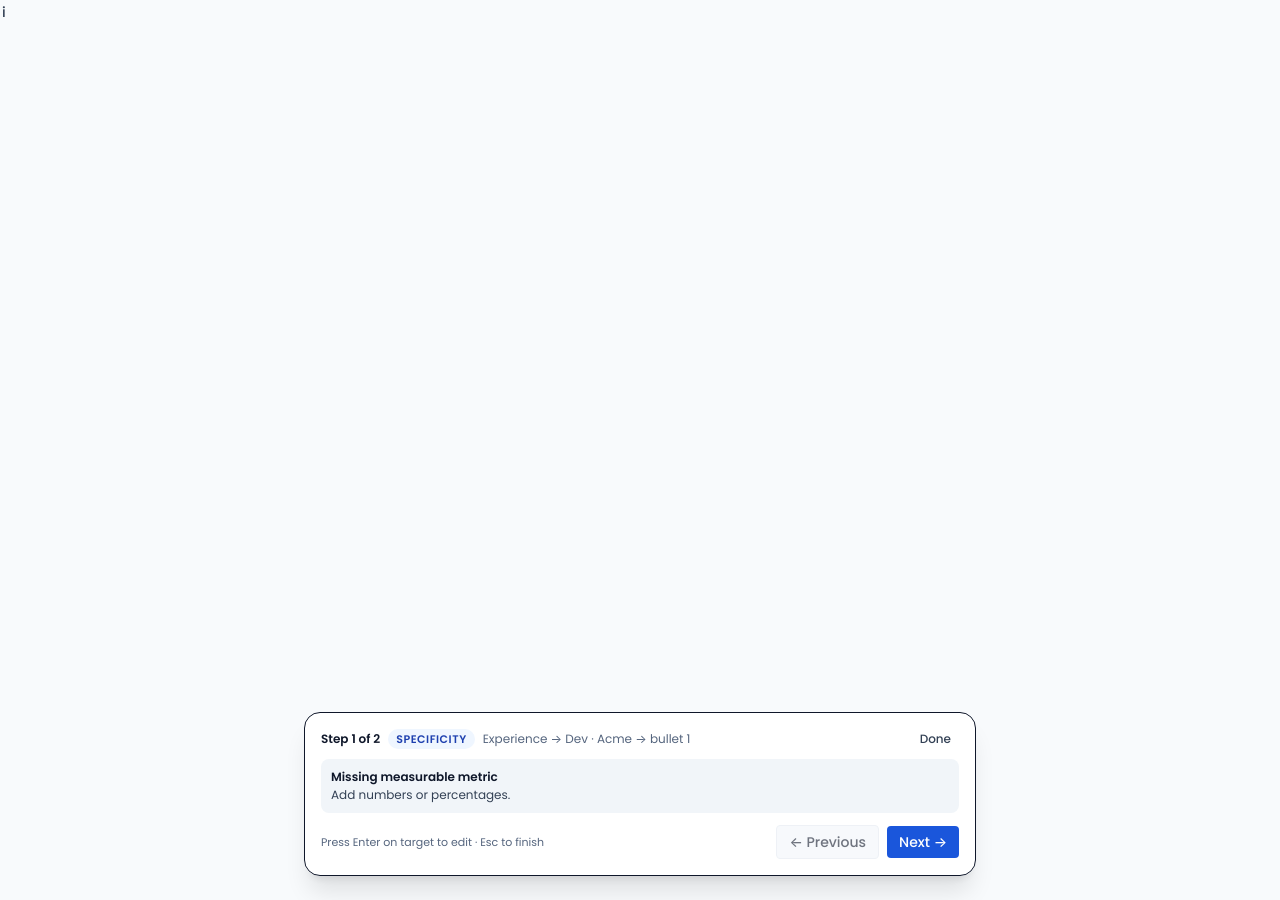
Test: FixItToolbar.tsx (#810) › stays on its step when Escape dismisses a popover (#1001)
Click the button named "How is this scored?".
click(4, 12)  # box [0, 0, 8, 24]
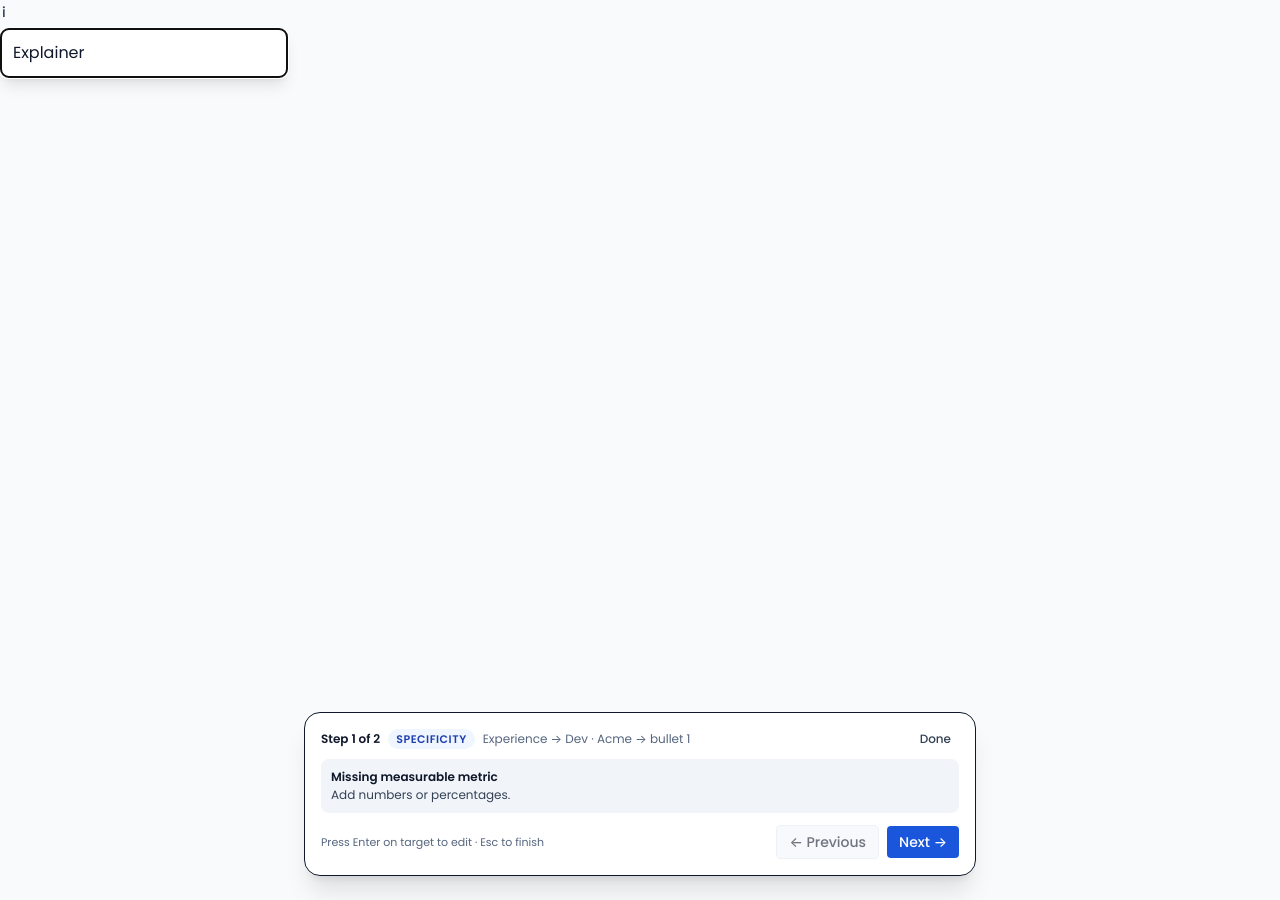
expect the text "Explainer" is shown: met
Press Escape in the dialog, box [0, 28, 288, 78]
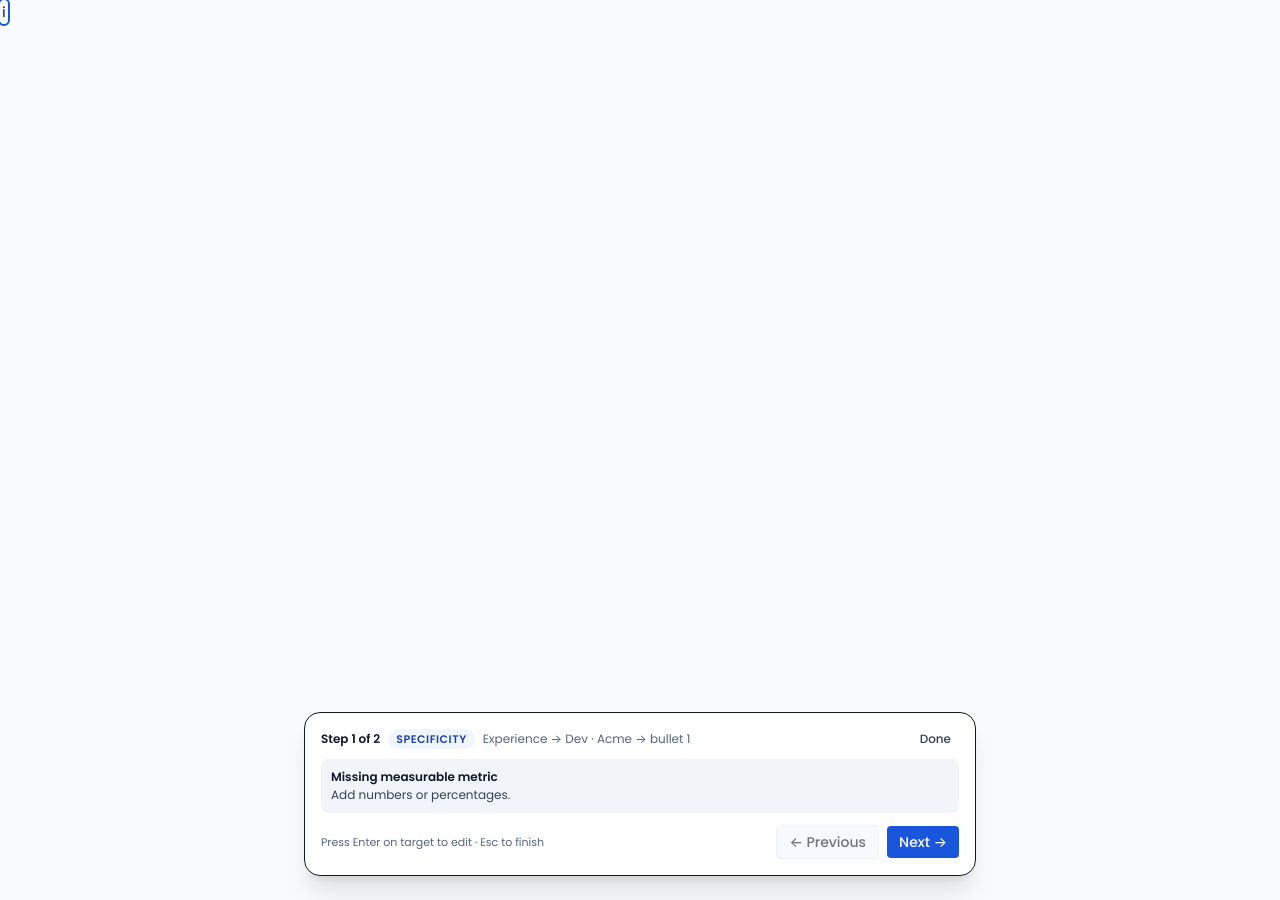
expect the text "Explainer" is gone: met
